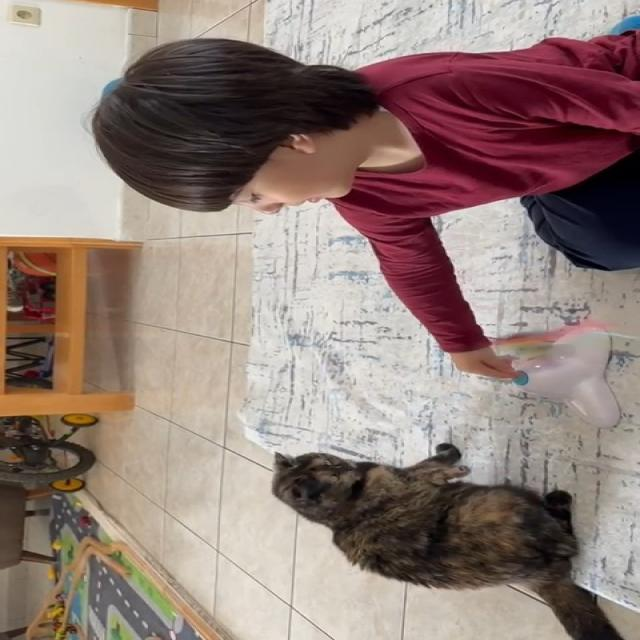authorized: (270, 442, 626, 640)
